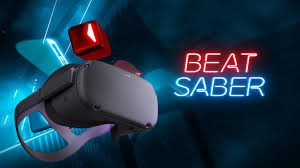oculus: (46, 59, 162, 140)
